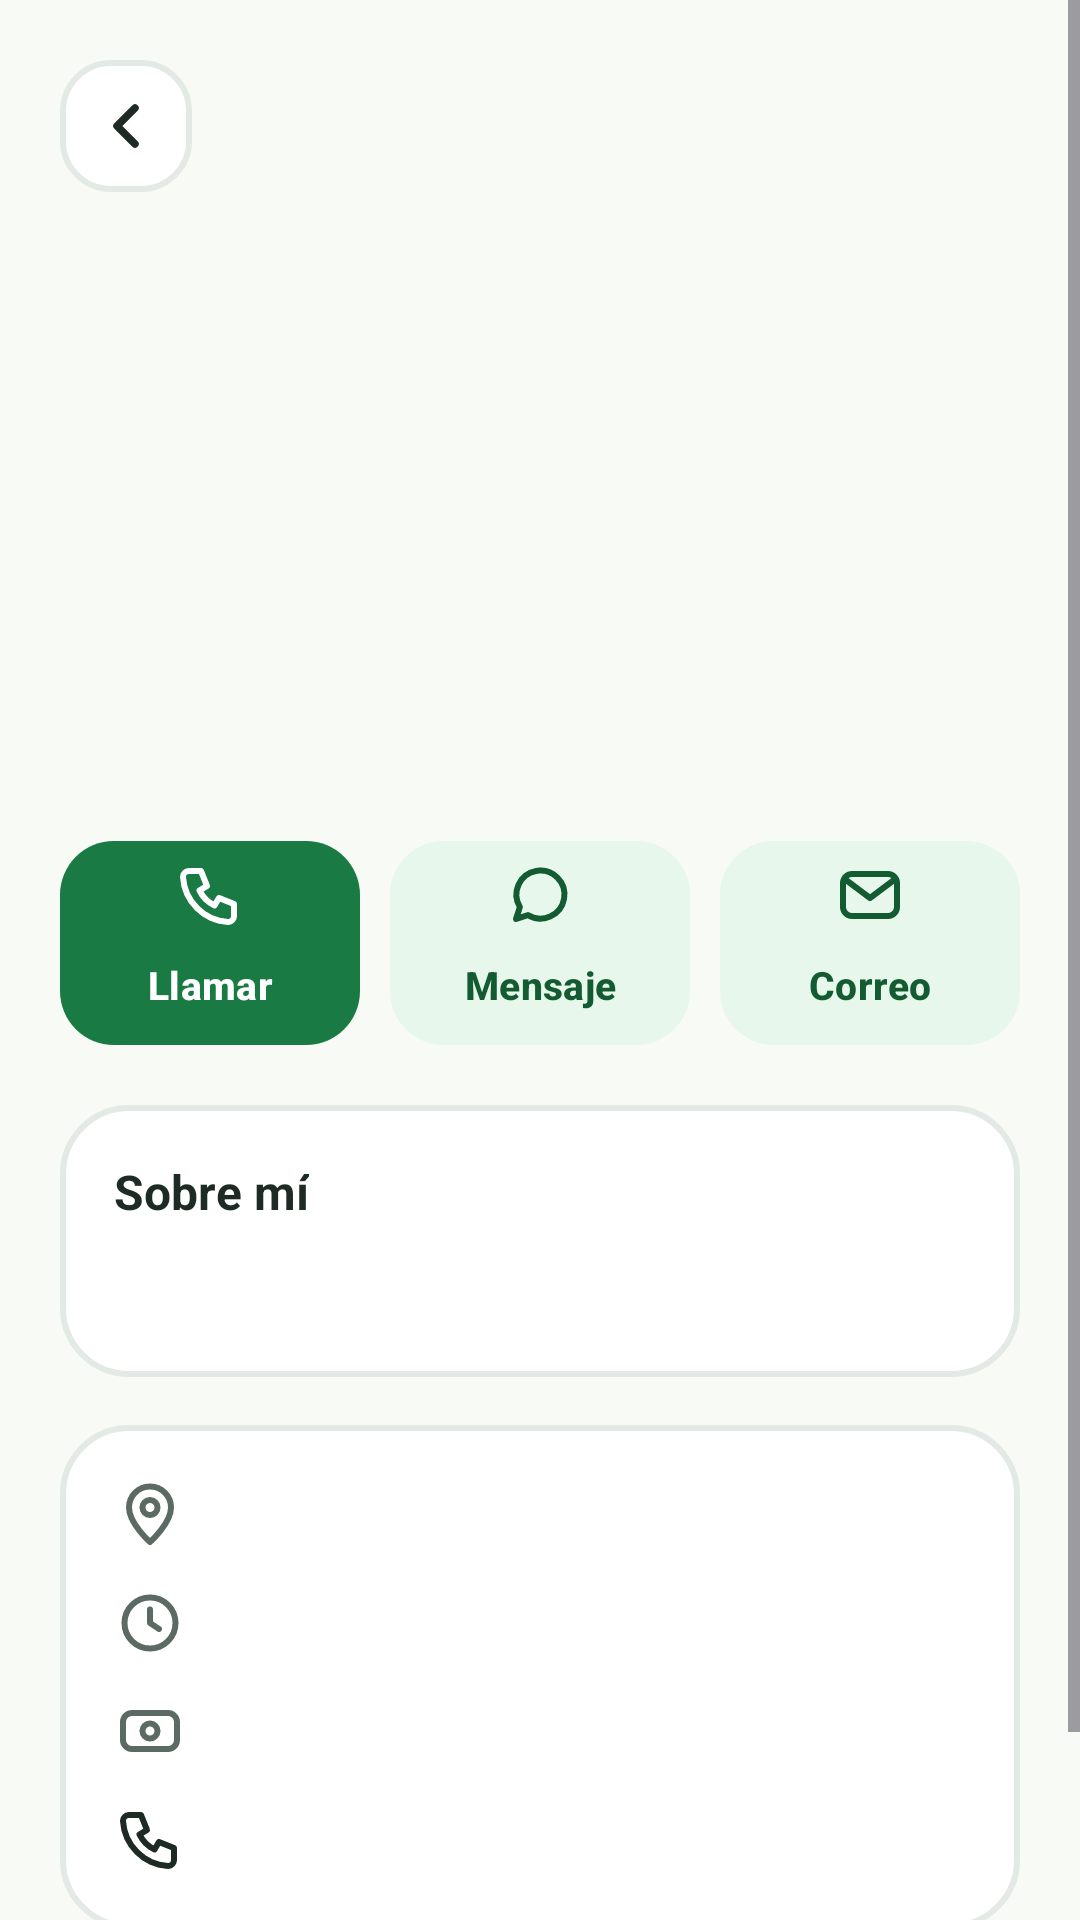

Icons on this 1080w x 1920h Android screen, each with the point to tap as point (x, y):
Volver al directorio: point (126, 126)
